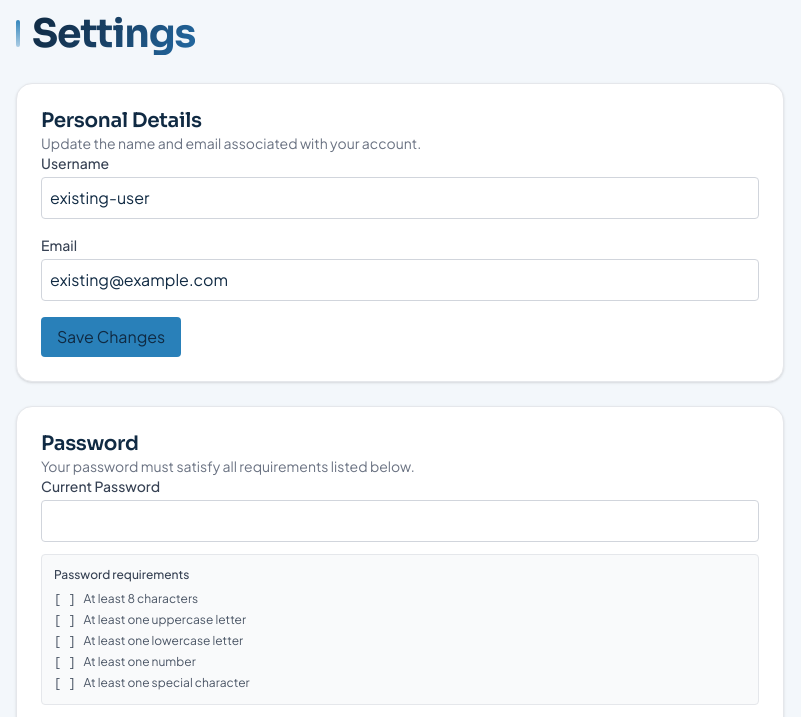
Test: Settings page › saves updated profile details and refreshes user context
Replace the text in the field labelled "Username" with "updated-user" at (400, 198), box [41, 177, 759, 219]
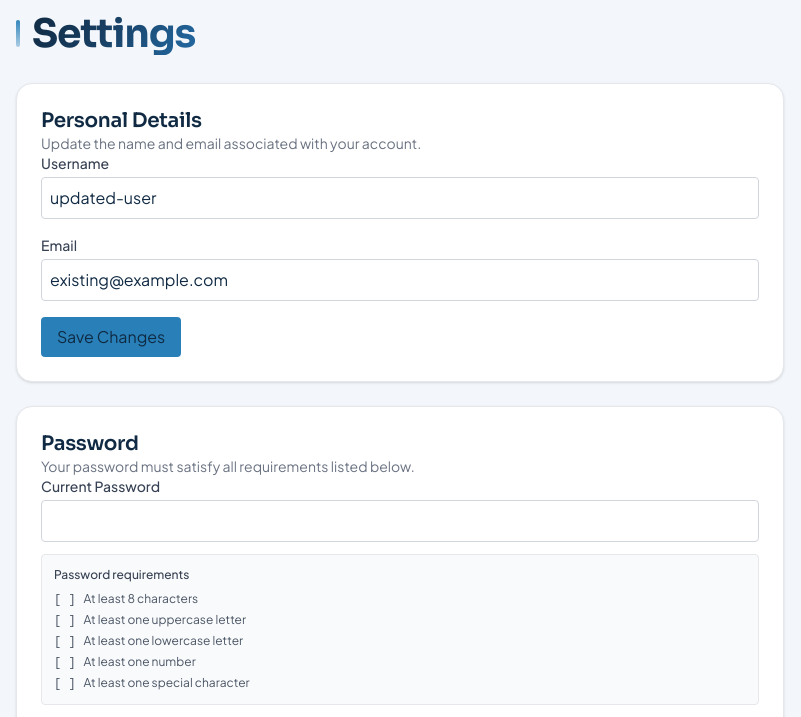
Replace the text in the field labelled "Email" with "updated@example.com" at (400, 280), box [41, 259, 759, 301]
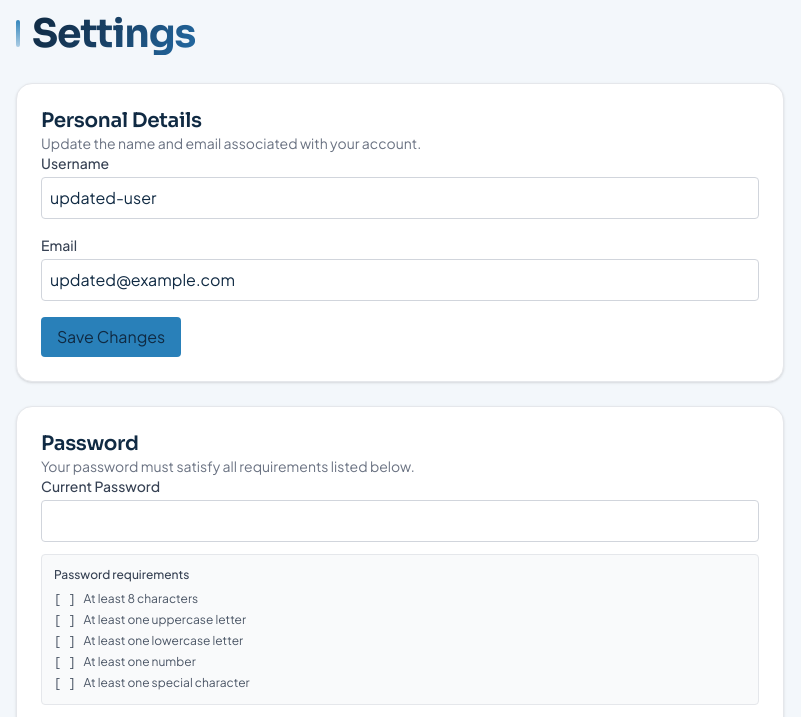
Click the button "Save Changes".
click(111, 337)  # box [41, 317, 181, 357]
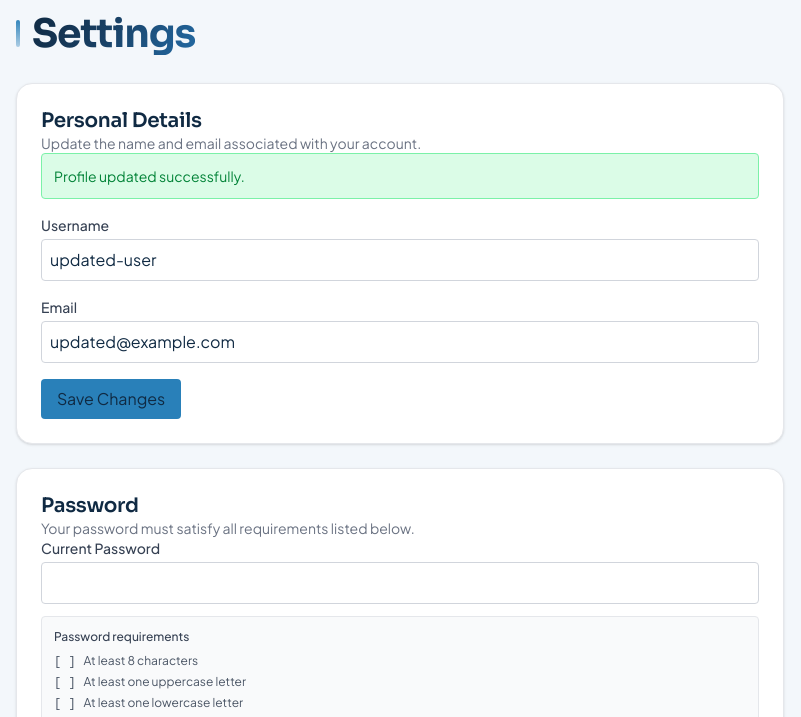
Check: the text "Profile updated successfully." is shown, box [41, 153, 759, 199]
